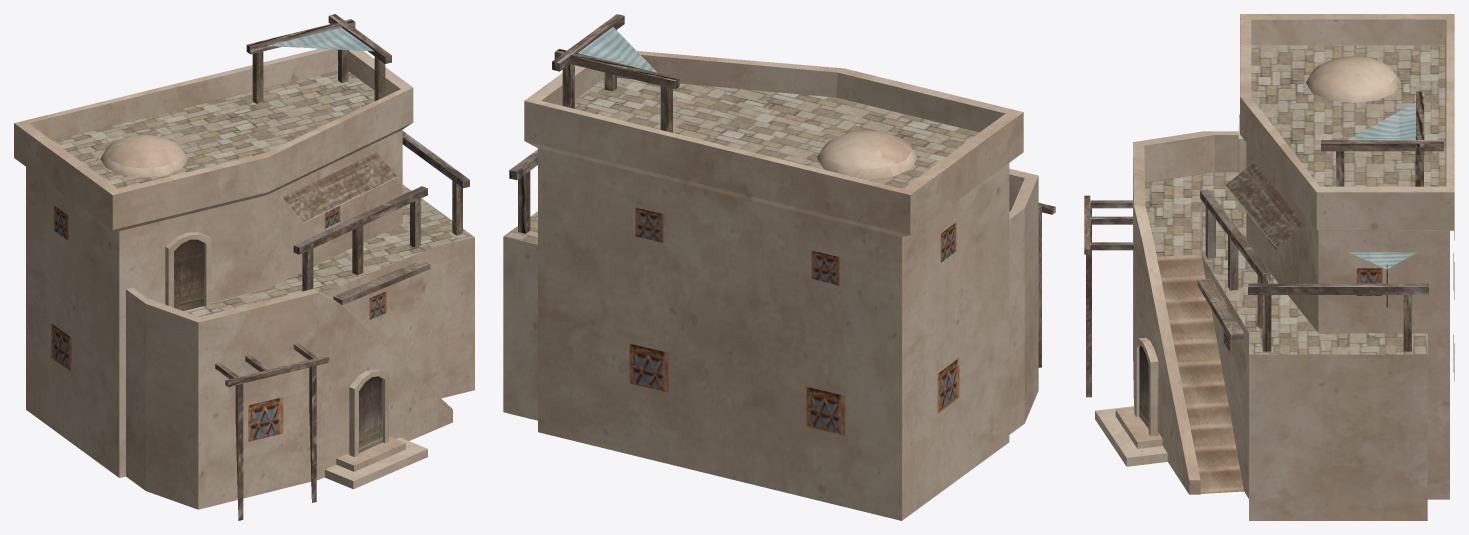
The model's file is desert_house.fbx.
The picture shows the model from 3 angles, left to right: view 1: azimuth 30°, elevation 25°; view 2: azimuth 150°, elevation 25°; view 3: azimuth 270°, elevation 25°; orthographic projection. The views are drawn at different scales.
Visible parts, largest first — view 1: desert_house; view 2: desert_house; view 3: desert_house.
Part boxes in pixels (x1=…): desert_house: x1=14, y1=14, x2=474, y2=520; desert_house: x1=503, y1=14, x2=1055, y2=520; desert_house: x1=1084, y1=14, x2=1454, y2=520.
Size of the model in its own units: 814 by 687 by 655.
Materials: 1 (1 with a texture image).
